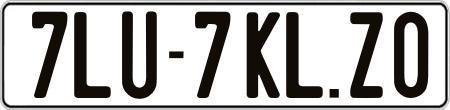0: (391, 9, 431, 98)
7: (192, 9, 233, 98), (29, 10, 66, 97)
K: (247, 10, 283, 97)
L: (284, 9, 324, 101), (72, 9, 110, 95)
U: (121, 9, 162, 100)
Z: (349, 11, 388, 101)
